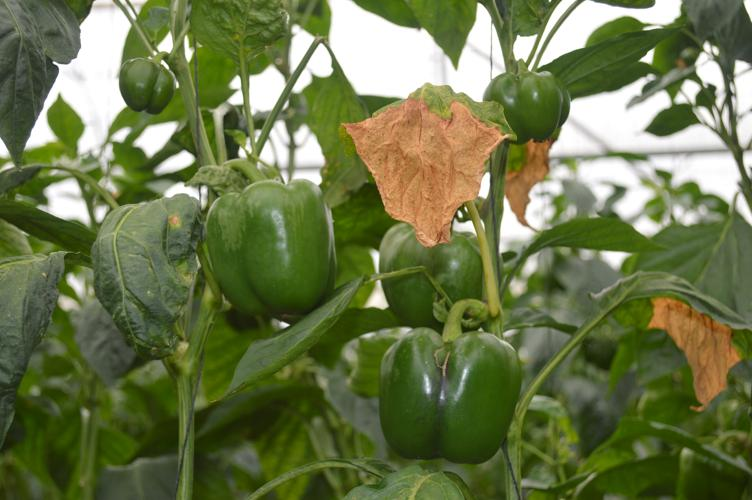BellPepper: (201, 179, 346, 319), (372, 325, 518, 464), (371, 217, 485, 331), (484, 66, 578, 153), (114, 55, 171, 116)
